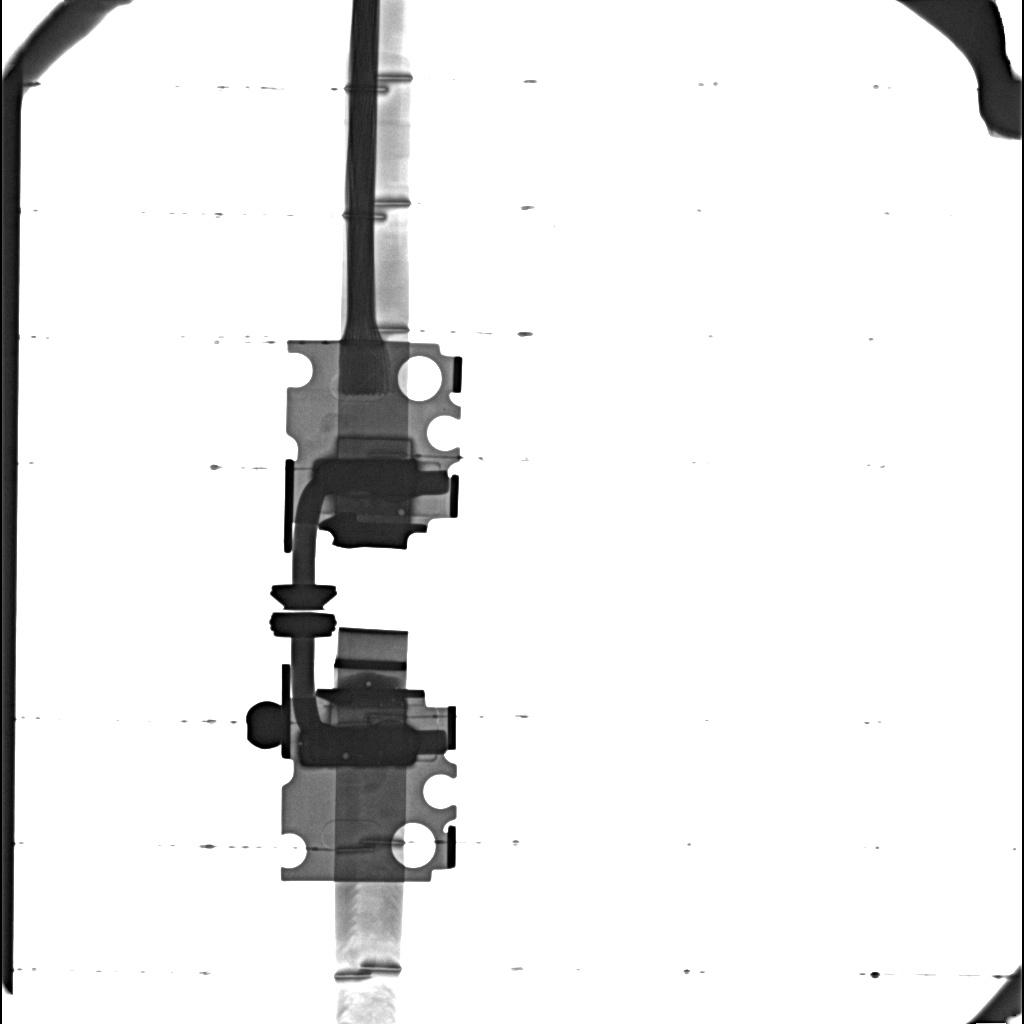PX: (336, 437, 413, 457)
QP: (398, 509, 405, 515)
SX: (299, 724, 418, 766), (315, 458, 416, 503)
